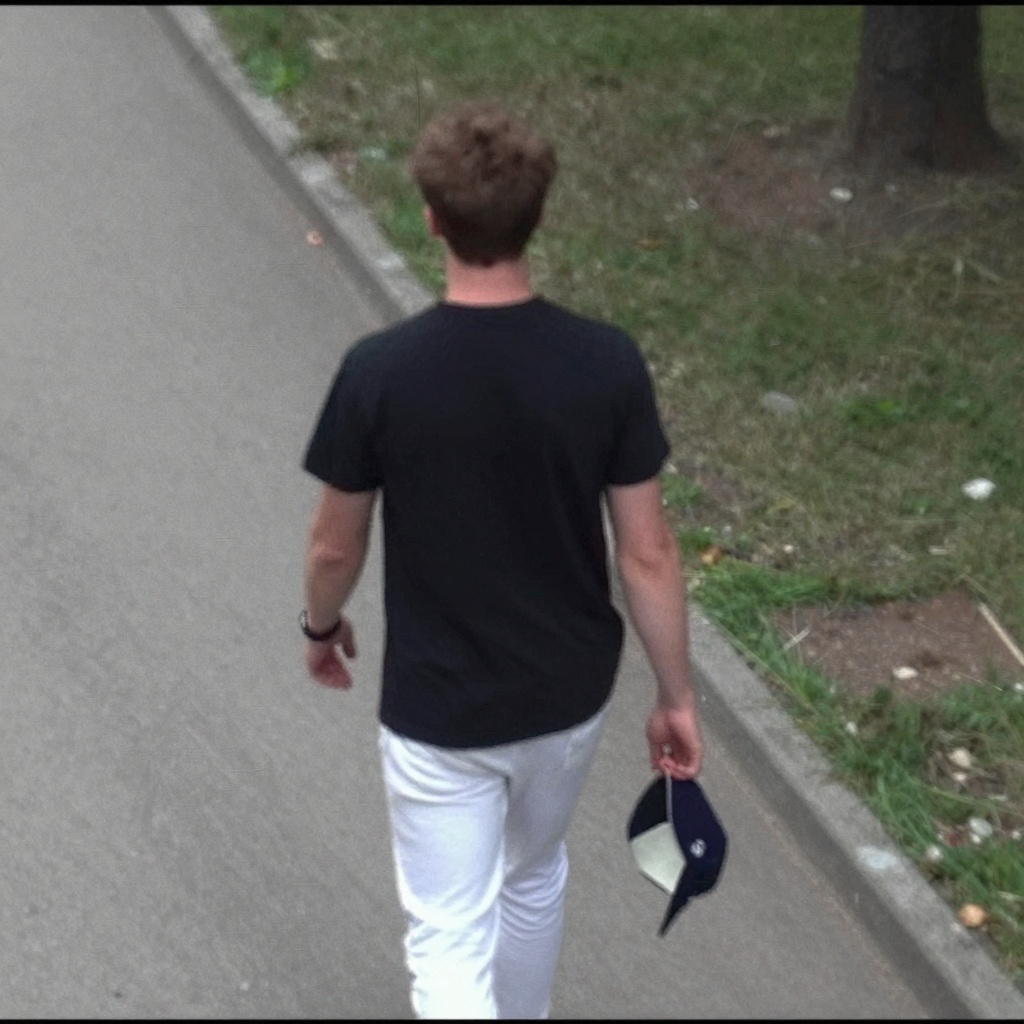Normal activity: (299, 108, 704, 1006)
